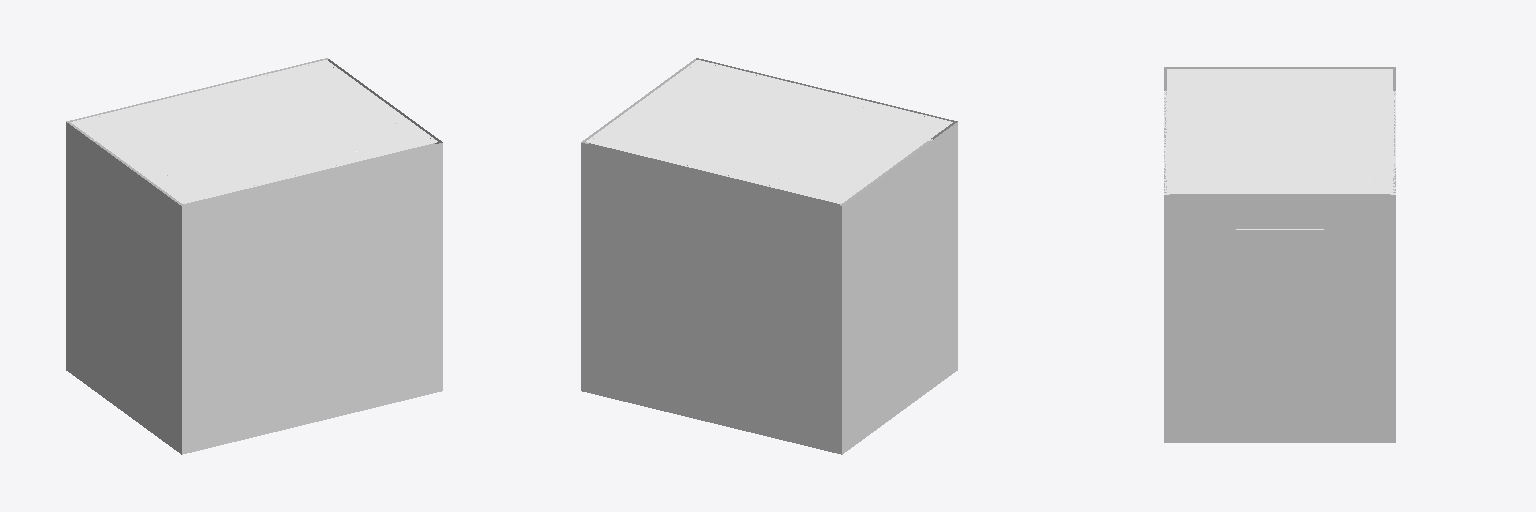
The model's file is env.obj.
3 renders of one model, left to right at view 1: azimuth 30°, elevation 25°; view 2: azimuth 150°, elevation 25°; view 3: azimuth 270°, elevation 25°, orthographic.
Parts seen in each view (by area): view 1: paroix1, refPlafond, paroiy0, caissonx1, caissony0; view 2: paroix0, refPlafond, paroiy0, caissonx0, caissony0; view 3: paroiy1, refPlafond, caissony1, caissony0.
Boxes of the visible parts, x1=… form: paroix1: x1=182, y1=167, x2=442, y2=454; refPlafond: x1=71, y1=60, x2=437, y2=203; paroiy0: x1=66, y1=146, x2=181, y2=454; caissonx1: x1=182, y1=143, x2=442, y2=229; caissony0: x1=66, y1=122, x2=181, y2=229; paroix0: x1=581, y1=167, x2=841, y2=454; refPlafond: x1=586, y1=60, x2=952, y2=203; paroiy0: x1=842, y1=146, x2=957, y2=454; caissonx0: x1=581, y1=143, x2=841, y2=229; caissony0: x1=842, y1=122, x2=957, y2=229; paroiy1: x1=1164, y1=219, x2=1395, y2=442; refPlafond: x1=1167, y1=69, x2=1392, y2=193; caissony1: x1=1164, y1=195, x2=1395, y2=218; caissony0: x1=1164, y1=67, x2=1395, y2=90.
Size of the model in its own units: 2.42 by 2.18 by 1.84.